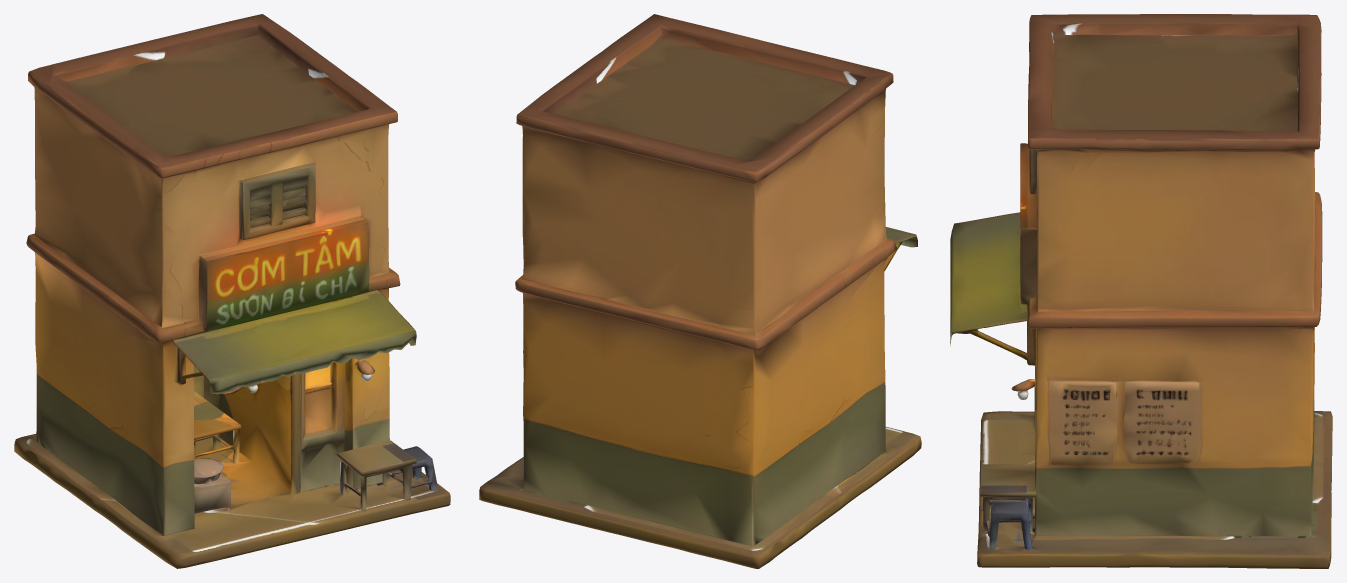
Rendered from shop.glb.
3 views of the same model, side by side, from view 1: azimuth 30°, elevation 25°; view 2: azimuth 150°, elevation 25°; view 3: azimuth 270°, elevation 25° (orthographic). The views are drawn at different scales.
Visible parts, largest first — view 1: model_LOD4; view 2: model_LOD4; view 3: model_LOD4.
Part boxes in pixels (left/top/right/bottom): model_LOD4: left=14, top=14, right=450, bottom=568; model_LOD4: left=479, top=14, right=921, bottom=568; model_LOD4: left=950, top=14, right=1332, bottom=568.
Size of the model in its own units: 1.43 by 1.9 by 1.59.
1 material, 1 textured.
